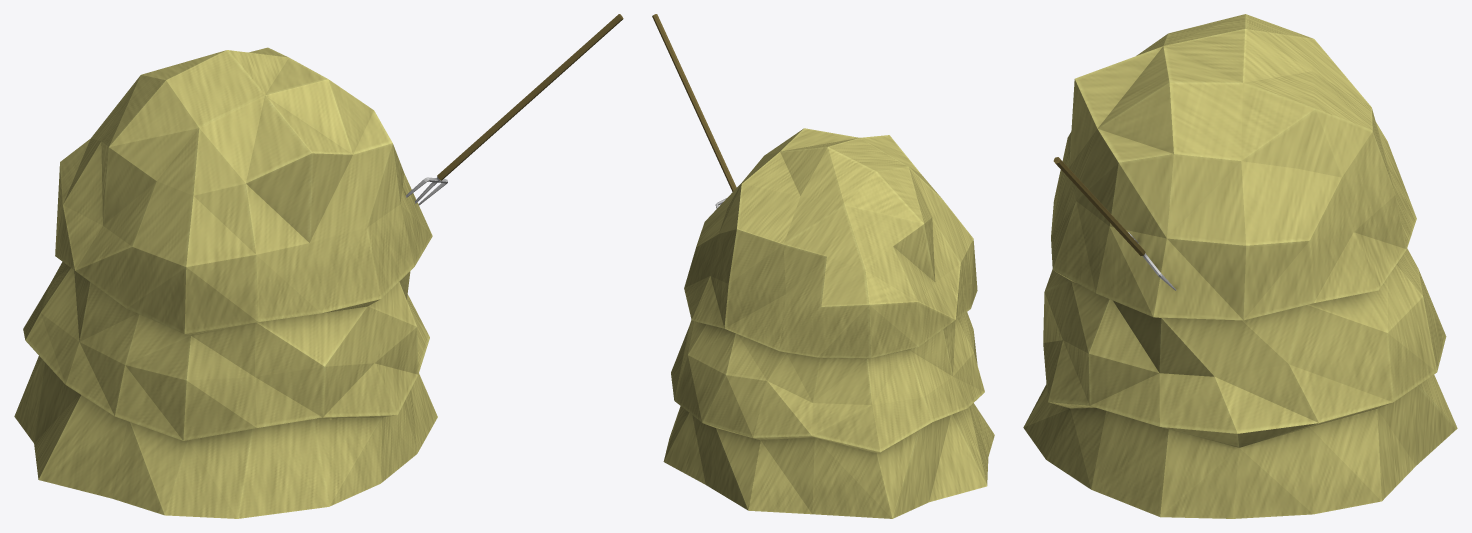
The model's file is west_haystack.glb.
3 renders of one model, left to right at view 1: azimuth 30°, elevation 25°; view 2: azimuth 150°, elevation 25°; view 3: azimuth 270°, elevation 25°, orthographic. The views are drawn at different scales.
Visible parts, largest first — view 1: Haystack_mesh; view 2: Haystack_mesh; view 3: Haystack_mesh.
Part boxes in pixels (x1,y1,x2,y2): Haystack_mesh: [14, 14, 623, 518]; Haystack_mesh: [652, 14, 994, 518]; Haystack_mesh: [1023, 14, 1457, 518].
Size of the model in its own units: 11.59 by 8.98 by 8.25.
Materials: 1 (1 with a texture image).
